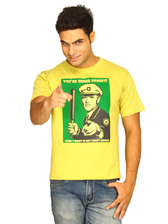clothoes: (27, 58, 145, 182)
